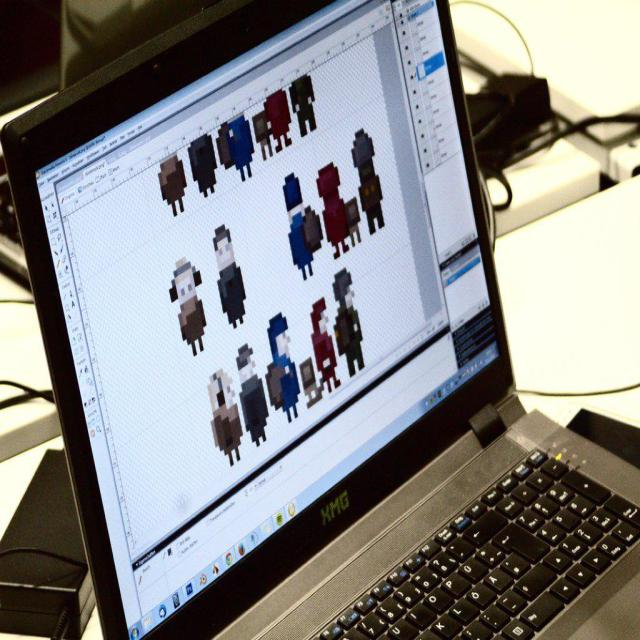laptop: (3, 38, 637, 637)
